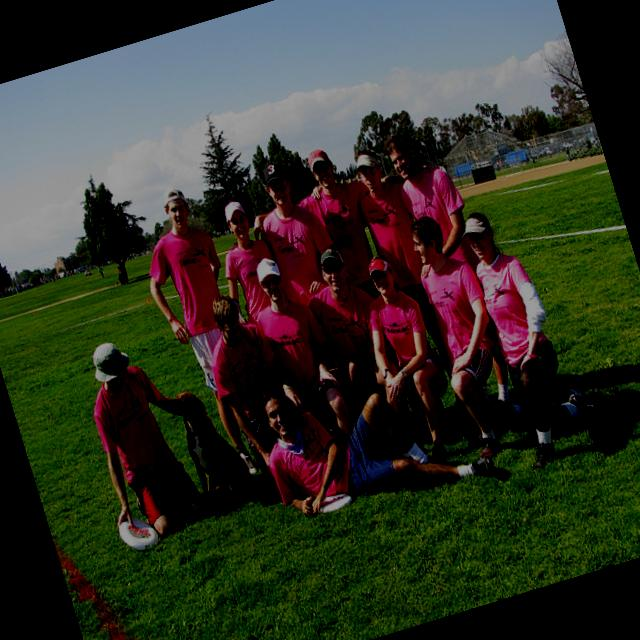Vehicle: (556, 138, 574, 152)
